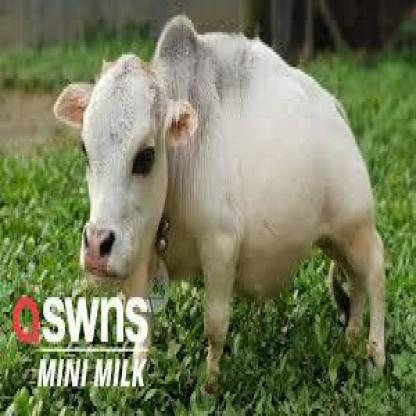cow: (53, 31, 385, 392)
